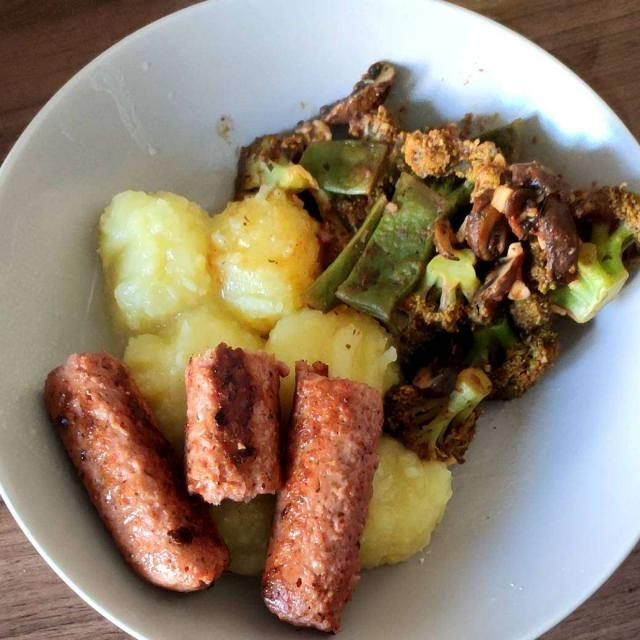broccoli: (551, 172, 634, 340)
gnocchi: (73, 171, 450, 555)
